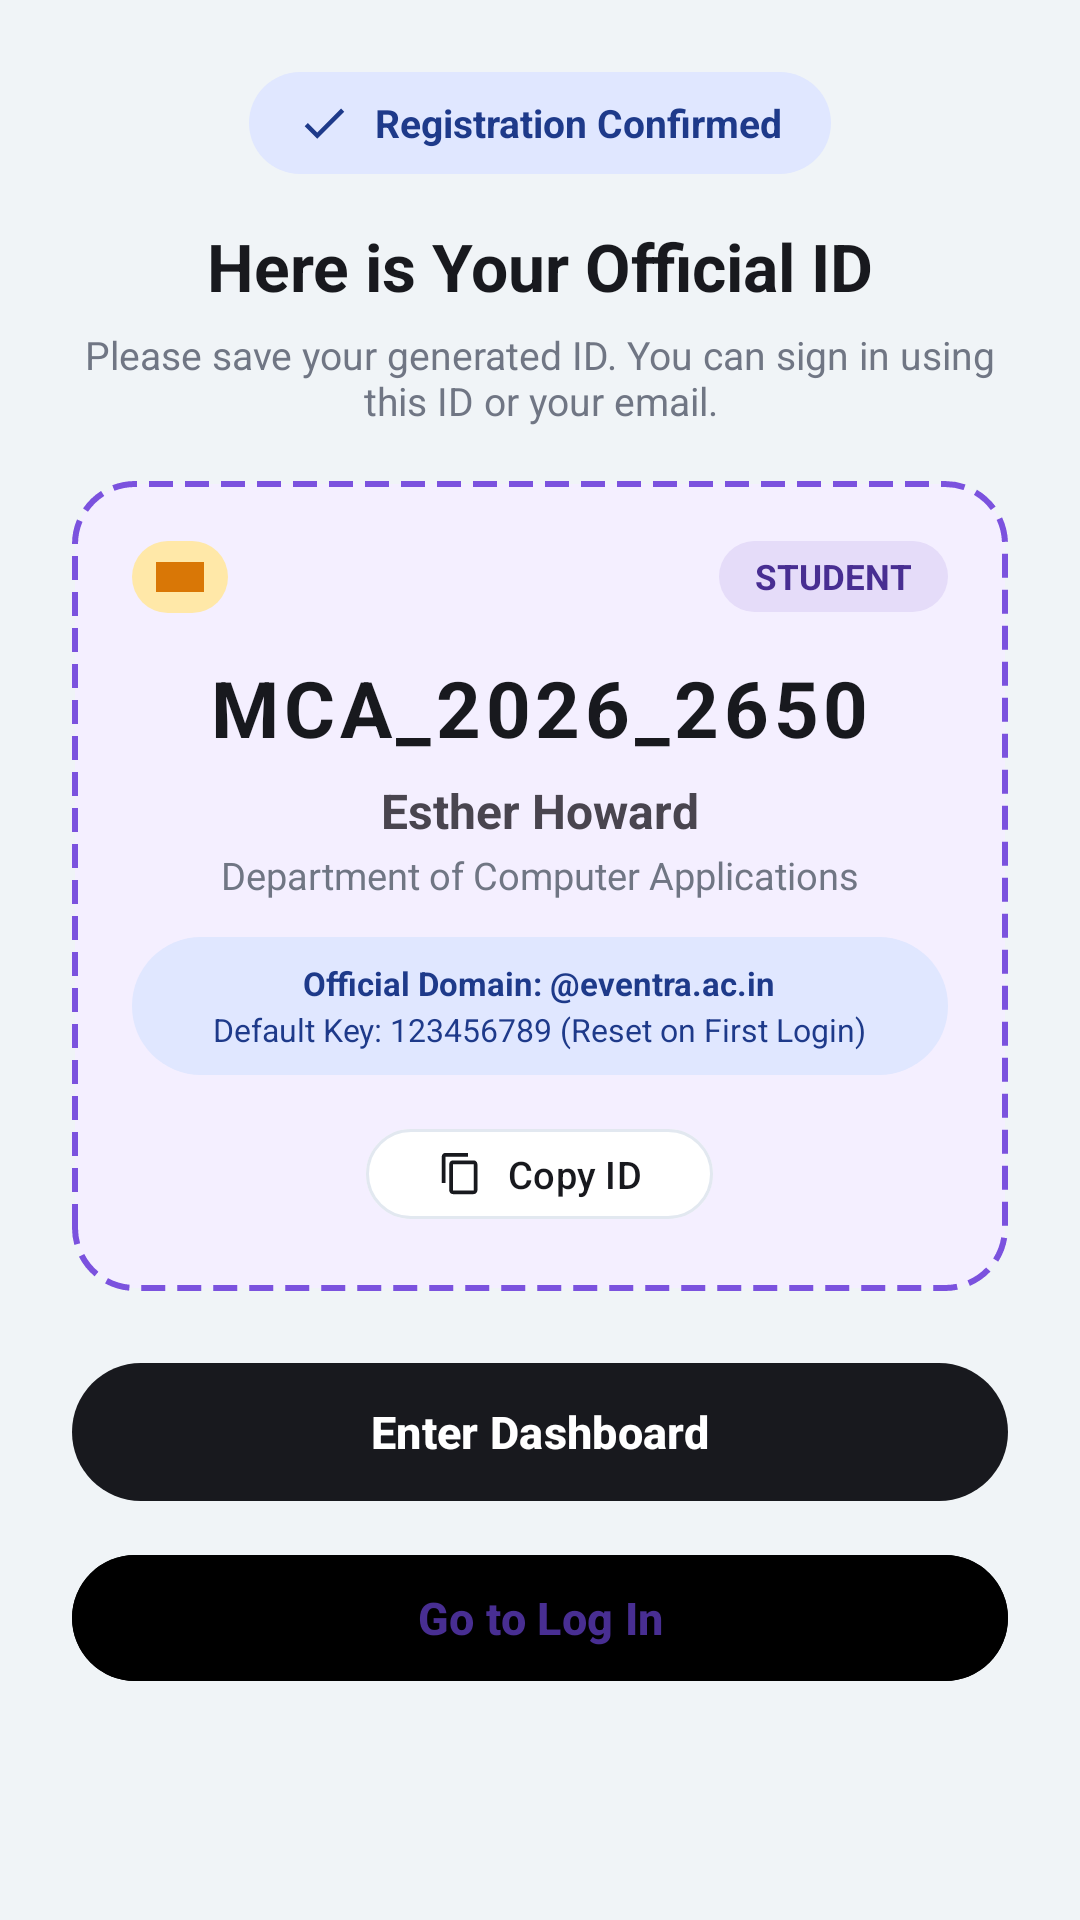

Icon bounding boxes for this 1080px x 1920px phone screenshot, format (x1, y1, x2, y2):
check: (305, 108, 344, 139)
